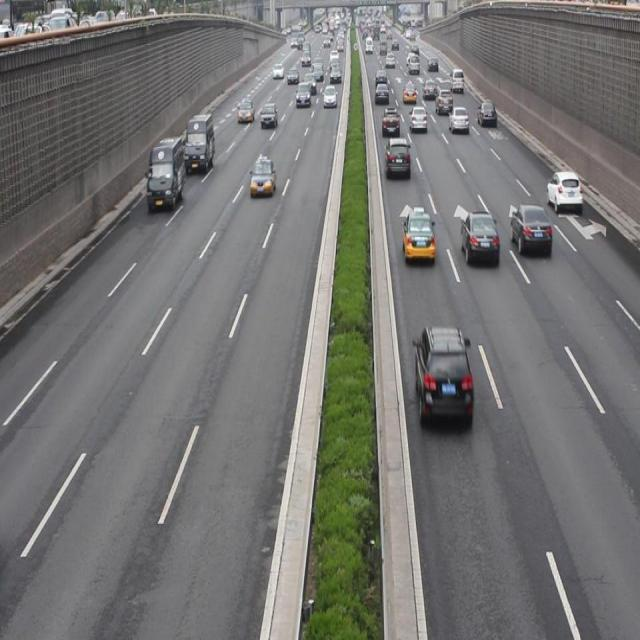car: (413, 324, 471, 423), (509, 203, 550, 257), (461, 208, 499, 266), (402, 209, 434, 262), (544, 167, 581, 208), (249, 155, 276, 195), (380, 104, 400, 138), (476, 100, 497, 128), (448, 104, 468, 133), (409, 104, 428, 133), (237, 98, 254, 125), (261, 102, 277, 129)
truck: (147, 135, 185, 210), (183, 115, 216, 172), (385, 135, 411, 179)
